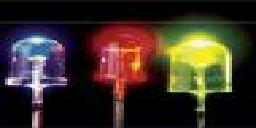LED: (164, 33, 238, 128), (90, 27, 149, 128), (4, 35, 68, 128)
